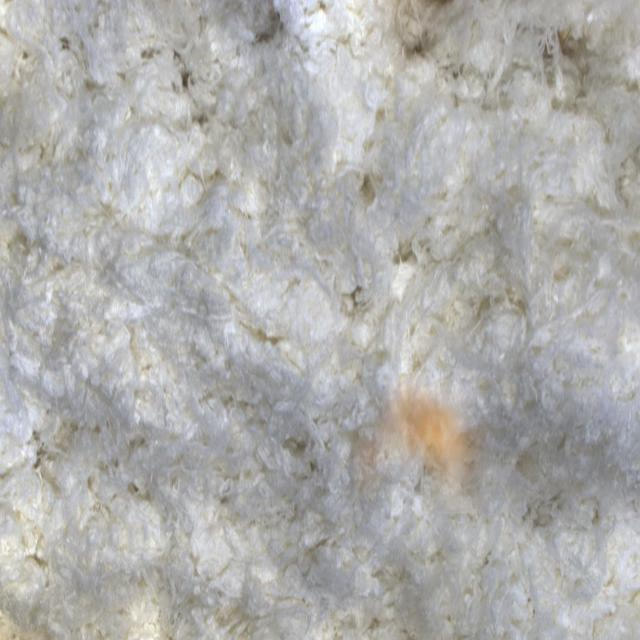dust: (350, 374, 495, 514)
